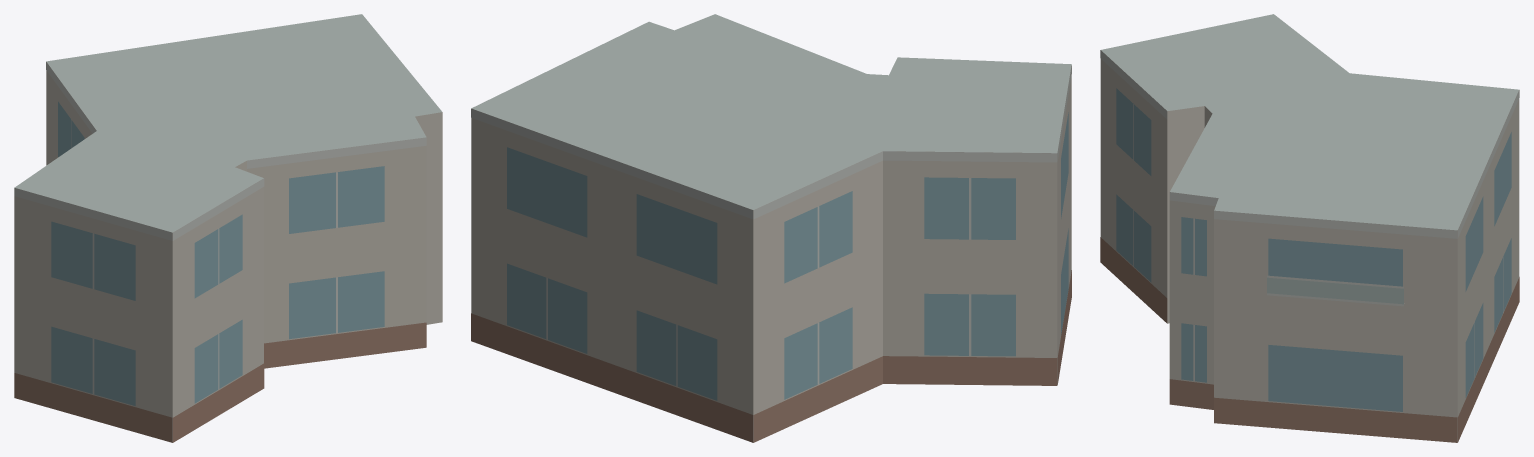
Rendered from survey-upis-32465330.glb.
The picture shows the model from 3 angles, left to right: view 1: azimuth 30°, elevation 25°; view 2: azimuth 150°, elevation 25°; view 3: azimuth 270°, elevation 25°; orthographic projection. The views are drawn at different scales.
Parts seen in each view (by area): view 1: survey-upis-32465330.tmp; view 2: survey-upis-32465330.tmp; view 3: survey-upis-32465330.tmp.
Part boxes in pixels (x1,y1,x2,y2): survey-upis-32465330.tmp: (14,14,442,442); survey-upis-32465330.tmp: (471,14,1071,442); survey-upis-32465330.tmp: (1100,14,1519,442).
Bounding box in the file's own units: 13.33 × 6.1 × 10.91.
